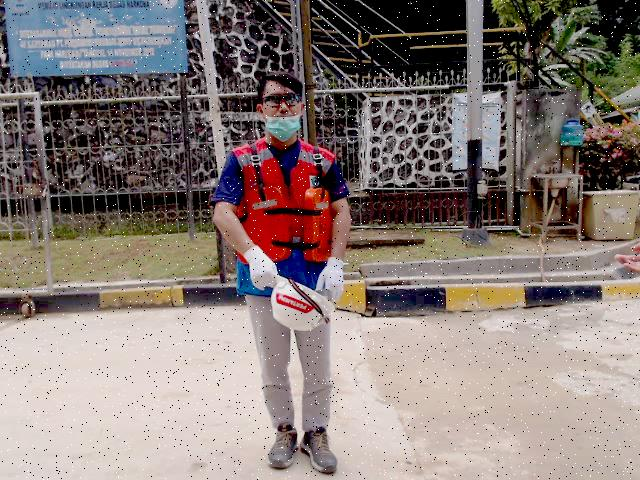glasses: (262, 93, 300, 106)
gloves: (243, 245, 280, 291), (314, 256, 345, 302)
helmet: (271, 274, 334, 335)
mask: (266, 116, 302, 142)
safety-shoes: (300, 427, 339, 475), (267, 421, 299, 470)
vest: (244, 187, 331, 261)
